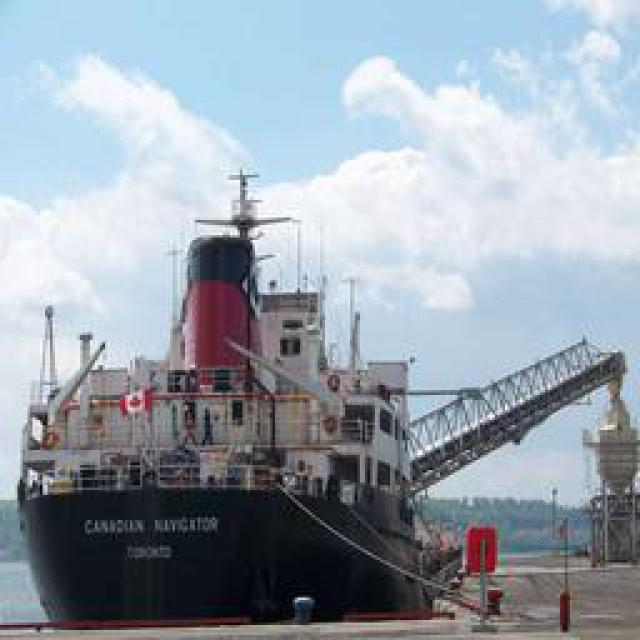Ship: (22, 152, 480, 620)
